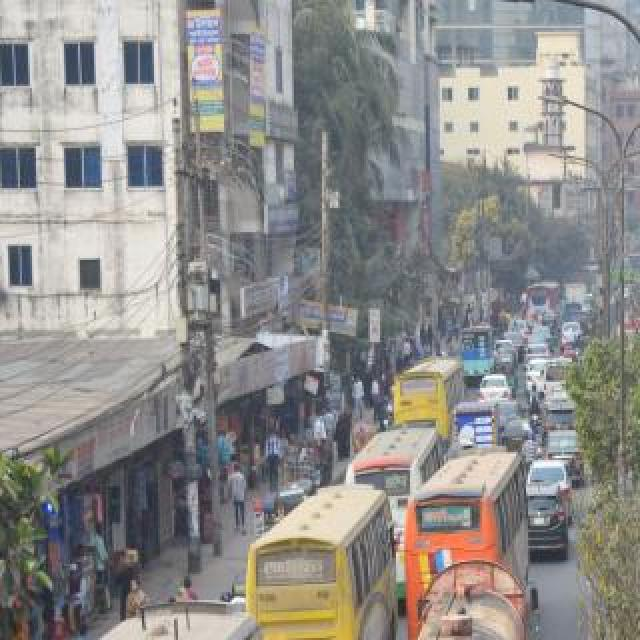bus: (246, 476, 396, 640), (408, 442, 534, 612), (8, 594, 282, 640), (345, 421, 441, 537), (397, 357, 467, 425), (524, 279, 564, 331), (612, 252, 640, 286)
car: (526, 479, 570, 563), (528, 456, 572, 504), (544, 431, 584, 481), (543, 400, 577, 444), (479, 373, 511, 401), (525, 356, 545, 394), (502, 330, 524, 358), (561, 321, 583, 347), (525, 343, 551, 363), (493, 341, 519, 361), (532, 327, 554, 345), (525, 334, 549, 348)
motorbike: (522, 430, 542, 466), (527, 380, 541, 430)
truck: (398, 550, 544, 640), (628, 340, 640, 450)
van: (453, 398, 503, 448), (460, 322, 496, 376), (541, 355, 579, 405), (568, 309, 592, 341), (564, 282, 588, 304)
